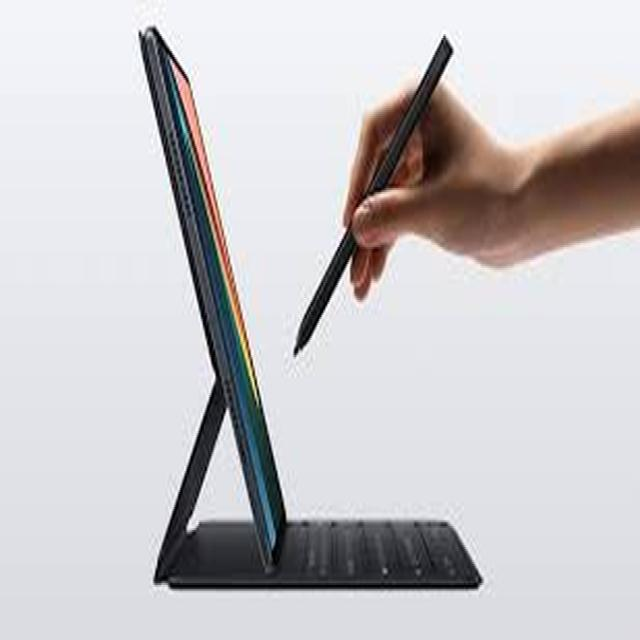pen: (283, 38, 468, 367)
